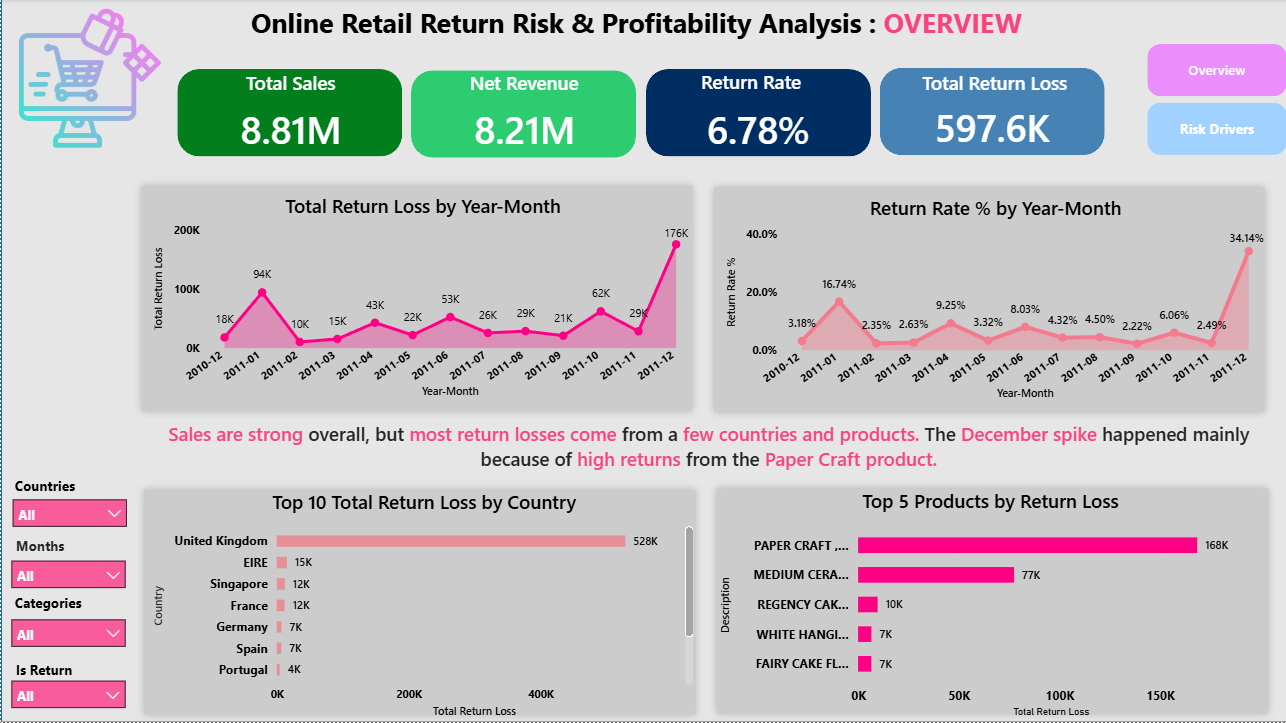

The dashboard page shown, as its layout file describes it:
{"tool":"powerbi","page":{"name":"Overview","canvas":[1280,720],"ordinal":0},"visuals":[{"type":"shape","box":[52.2,177.9,587.1,339.6],"z":0},{"type":"shape","box":[52.2,177.9,541.1,282.4],"z":1000},{"type":"shape","box":[0,0,1280,720],"z":2000},{"type":"shape","box":[175.6,70.3,223.9,87.1],"z":3000},{"type":"card","fields":{"Values":["online_retail.Total Sales"]},"box":[176.9,101.5,223.9,56],"z":4000},{"type":"textbox","box":[238.8,65.9,112,39.8],"z":5000},{"type":"shape","box":[641.6,69.3,223.9,87.1],"z":6000},{"type":"card","fields":{"Values":["online_retail.Return Rate %"]},"box":[642.1,101.5,223.9,56],"z":7000},{"type":"textbox","box":[691.4,64.8,115.7,38.6],"z":8000},{"type":"shape","box":[408.6,71.2,223.9,87.1],"z":9000},{"type":"card","fields":{"Values":["online_retail.Net Revenue"]},"box":[409.5,101.5,223.9,56],"z":10000},{"type":"textbox","box":[461.5,66,140.6,36.1],"z":11000},{"type":"shape","box":[874.5,68.4,223.9,87.1],"z":12000},{"type":"card","fields":{"Values":["online_retail.Total Return Loss"]},"box":[874.5,99.5,223.9,56],"z":13000},{"type":"textbox","box":[911.8,65.4,166.7,37.3],"z":14000},{"type":"shape","box":[132.1,177.4,564,240],"z":15000},{"type":"areaChart","fields":{"Category":["DateTable.Year-Month"],"Y":["online_retail.Total Return Loss"]},"box":[148.1,193.4,544,208],"z":16000},{"type":"shape","box":[701.3,179.6,564,240],"z":17000},{"type":"areaChart","fields":{"Category":["DateTable.Year-Month"],"Y":["online_retail.Return Rate %"]},"box":[717.3,195.6,544,208],"z":18000},{"type":"shape","box":[134.1,479.9,564.8,240.1],"z":19000},{"type":"shape","box":[703.8,479.2,564.8,240.1],"z":20000},{"type":"barChart","title":"Top 10 Total Return Loss by Country","fields":{"Category":["online_retail.Country"],"Y":["online_retail.Total Return Loss"]},"box":[147.8,487.4,546.1,232.6],"z":21000},{"type":"barChart","title":"Top 5 Products by Return Loss","fields":{"Category":["online_retail.Description"],"Y":["online_retail.Total Return Loss"]},"box":[711.3,486.6,546.1,232.6],"z":22000},{"type":"pageNavigator","box":[1140.7,44.8,139.3,110.7],"z":23000},{"type":"image","box":[0,0,176.6,155.5],"z":24000},{"type":"textbox","box":[244.4,0,791.2,54.7],"z":25000},{"type":"textbox","box":[144,416,1120,64],"z":26000},{"type":"slicer","fields":{"Values":["online_retail.Country"]},"box":[1.2,487.6,134.3,43.5],"z":27000},{"type":"slicer","fields":{"Values":["DateTable.Month"]},"box":[0,548,134.3,42.3],"z":28000},{"type":"textbox","box":[10,529.9,65.9,29.9],"z":29000},{"type":"textbox","box":[8.7,470.2,77.1,33.6],"z":30000},{"type":"slicer","fields":{"Values":["online_retail.Category"]},"box":[0,607.1,134.3,43.5],"z":31000},{"type":"slicer","fields":{"Values":["online_retail.Is_Return"]},"box":[0,667.5,134,43],"z":32000},{"type":"textbox","box":[8.7,587.1,93.3,33.6],"z":33000},{"type":"textbox","box":[10,652.6,75.9,29.9],"z":34000}]}

Visuals, with their boxes in screenshot pixels (x1, y1, x2, y2), scaled from the page's 1280x720 canvas onto the 1286x723 screenshot:
shape: locate(52, 179, 642, 520)
shape: locate(52, 179, 596, 462)
shape: locate(0, 0, 1285, 722)
shape: locate(176, 71, 401, 158)
card - online_retail.Total Sales: locate(178, 102, 403, 158)
textbox: locate(240, 66, 352, 106)
shape: locate(645, 70, 870, 157)
card - online_retail.Return Rate %: locate(645, 102, 870, 158)
textbox: locate(695, 65, 811, 104)
shape: locate(411, 71, 635, 159)
card - online_retail.Net Revenue: locate(411, 102, 636, 158)
textbox: locate(464, 66, 605, 103)
shape: locate(879, 69, 1104, 156)
card - online_retail.Total Return Loss: locate(879, 100, 1104, 156)
textbox: locate(916, 66, 1084, 103)
shape: locate(133, 178, 699, 419)
areaChart - DateTable.Year-Month x online_retail.Total Return Loss: locate(149, 194, 695, 403)
shape: locate(705, 180, 1271, 421)
areaChart - DateTable.Year-Month x online_retail.Return Rate %: locate(721, 196, 1267, 405)
shape: locate(135, 482, 702, 722)
shape: locate(707, 481, 1275, 722)
"Top 10 Total Return Loss by Country" barChart: locate(148, 489, 697, 722)
"Top 5 Products by Return Loss" barChart: locate(715, 489, 1263, 722)
pageNavigator: locate(1146, 45, 1285, 156)
image: locate(0, 0, 177, 156)
textbox: locate(246, 0, 1040, 55)
textbox: locate(145, 418, 1270, 482)
slicer - online_retail.Country: locate(1, 490, 136, 533)
slicer - DateTable.Month: locate(0, 550, 135, 593)
textbox: locate(10, 532, 76, 562)
textbox: locate(9, 472, 86, 506)
slicer - online_retail.Category: locate(0, 610, 135, 653)
slicer - online_retail.Is_Return: locate(0, 670, 135, 713)
textbox: locate(9, 590, 102, 623)
textbox: locate(10, 655, 86, 685)
